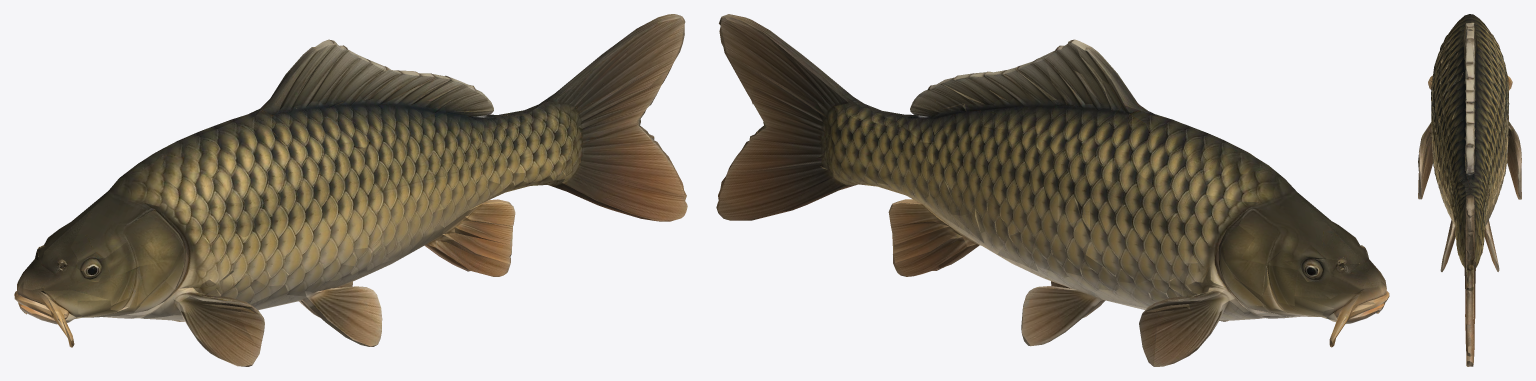
File: fishCarp.glb
The picture shows the model from 3 angles, left to right: view 1: azimuth 30°, elevation 25°; view 2: azimuth 150°, elevation 25°; view 3: azimuth 270°, elevation 25°; orthographic projection. The views are drawn at different scales.
Visible parts, largest first — view 1: Mesh_0; view 2: Mesh_0; view 3: Mesh_0.
Part boxes in pixels (<box>): Mesh_0: <box>14,14,687,366</box>; Mesh_0: <box>716,14,1389,366</box>; Mesh_0: <box>1418,14,1521,366</box>.
Size of the model in its own units: 0.4 by 0.1705 by 0.0681.
1 material, 1 textured.
